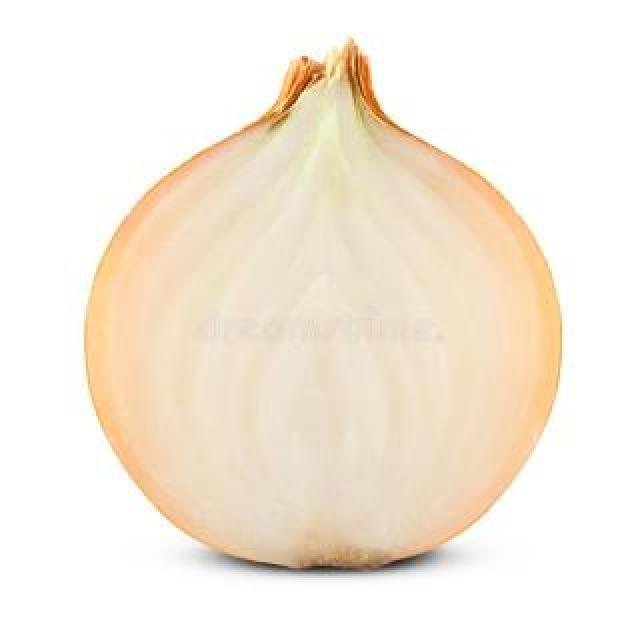Wet: (80, 44, 564, 574)
